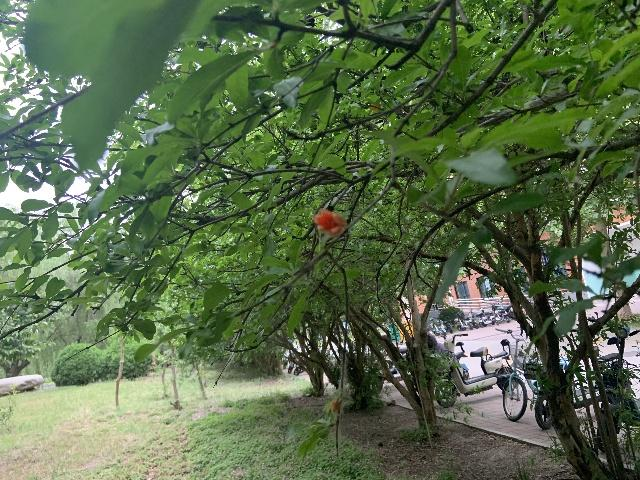flower: (313, 208, 346, 236)
